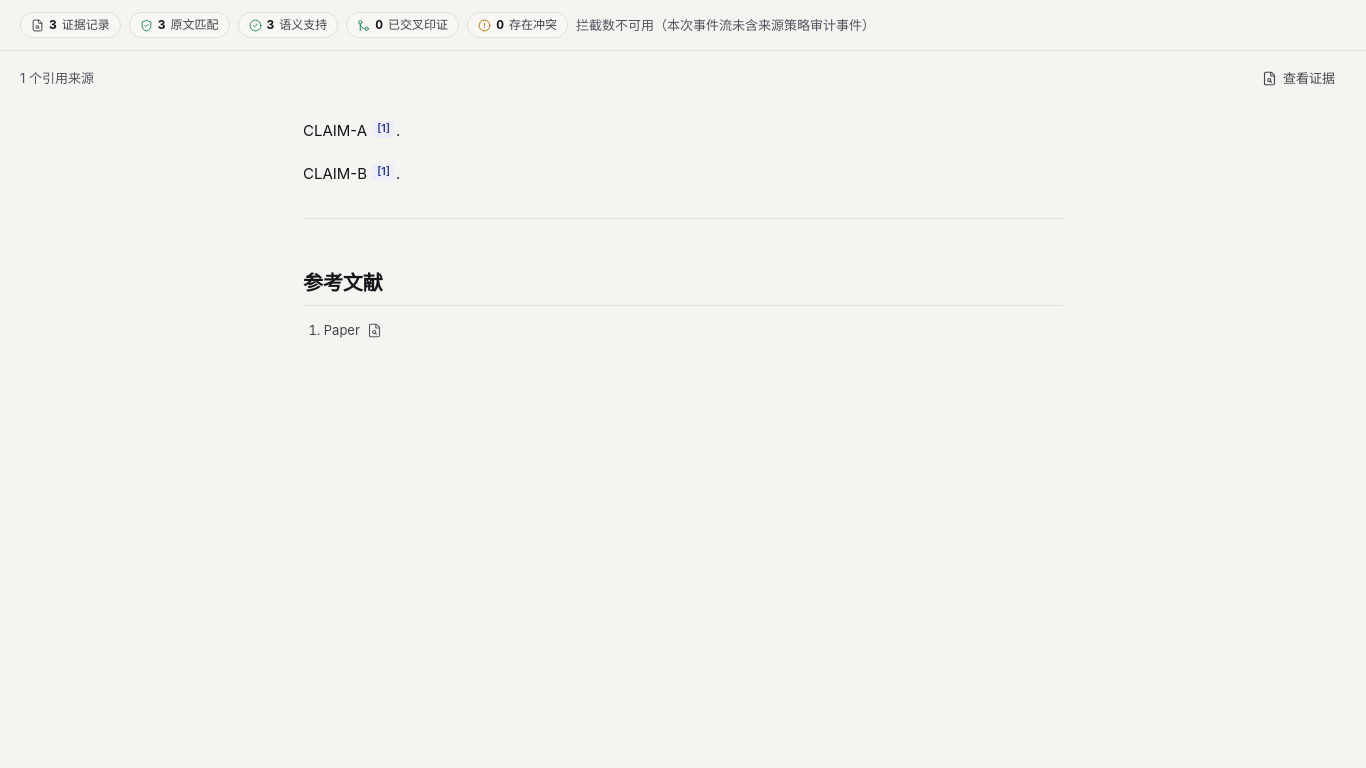
Test case: uses the selected evidence for each occurrence, allows explicit browsing and closes stale selection
Click the button named "查看引用 1 的证据": (384, 130) [372,121,395,138]
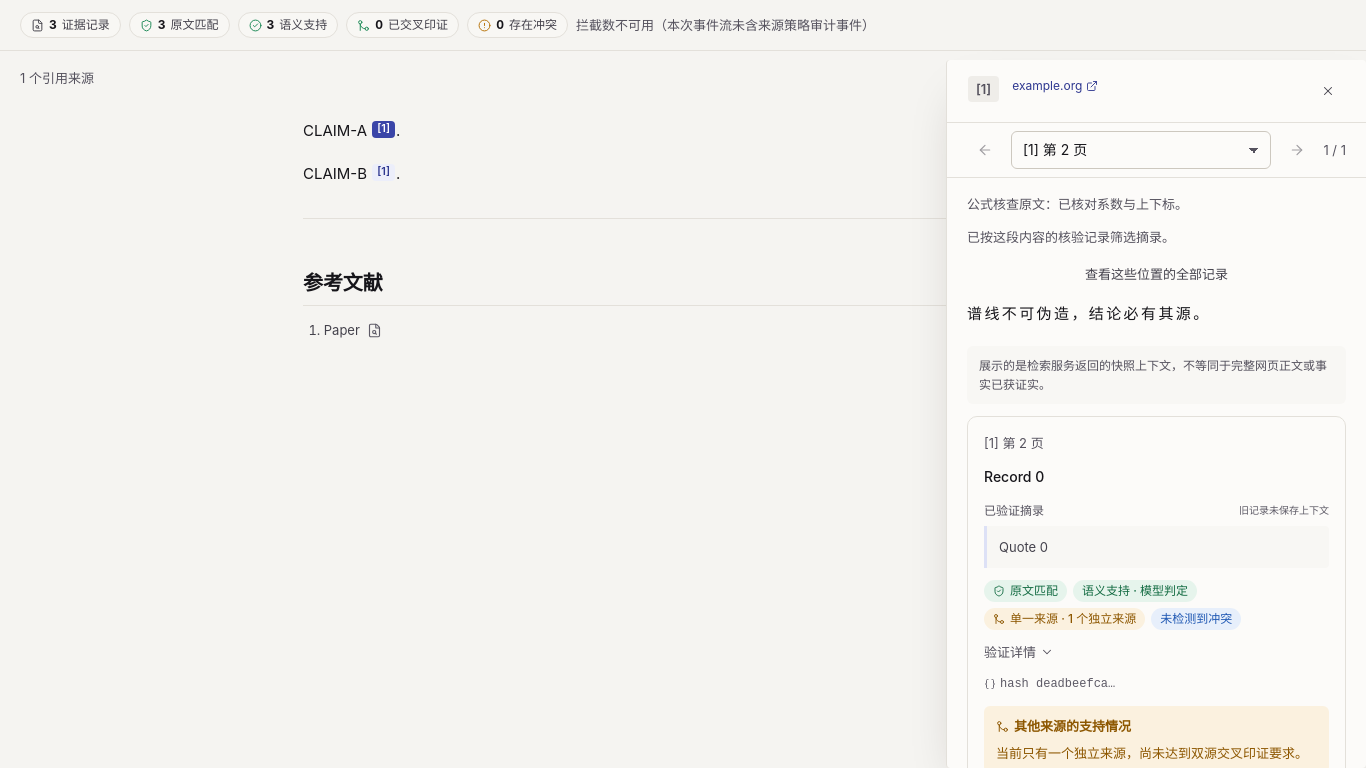
Check: the text "Record 1" is not shown
Check: the text "Record 0" is shown, box [984,468,1044,485]
Check: the text "公式核查原文：已核对系数与上下标。" is shown, box [967,196,1188,212]
Click the button "查看这些位置的全部记录": (1156, 275) [967,260,1346,290]
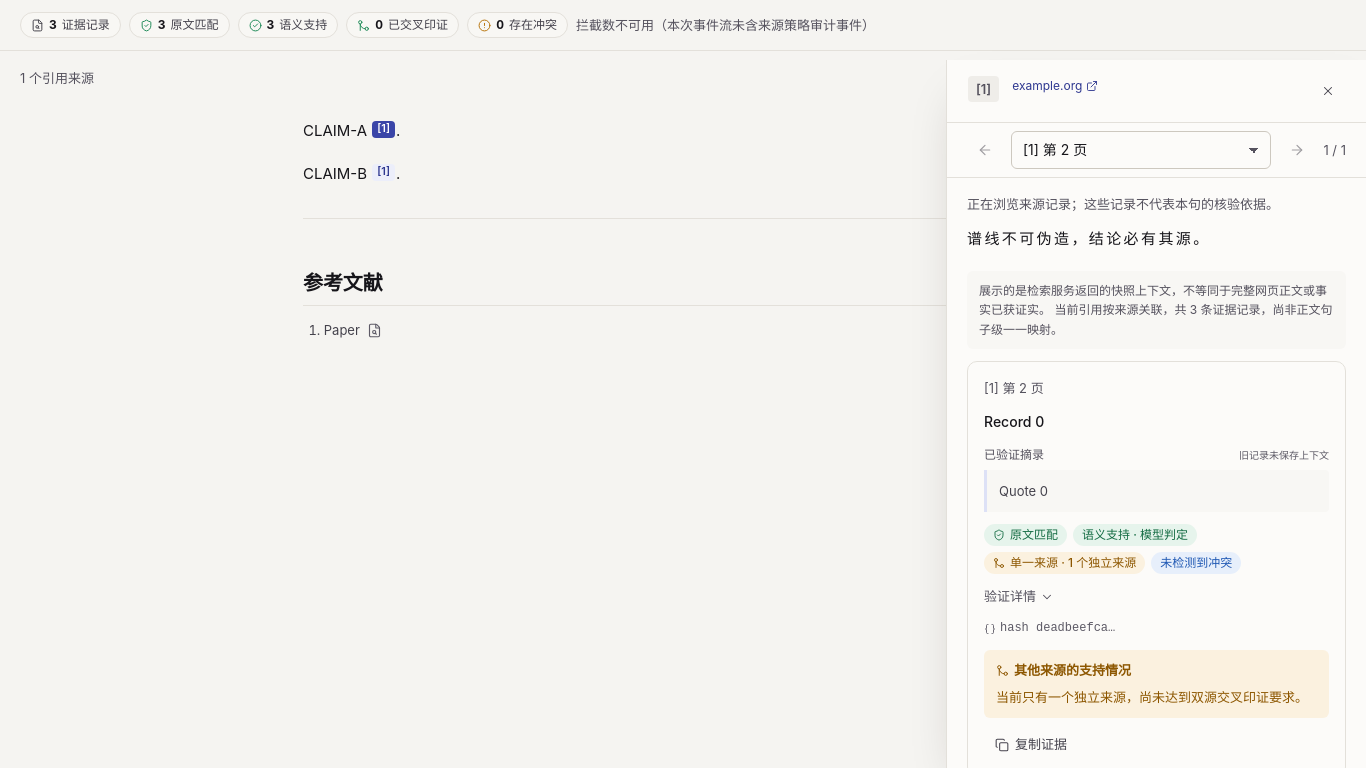
Click the button named "关闭证据侧栏": (1328, 91) [1310,76,1346,106]
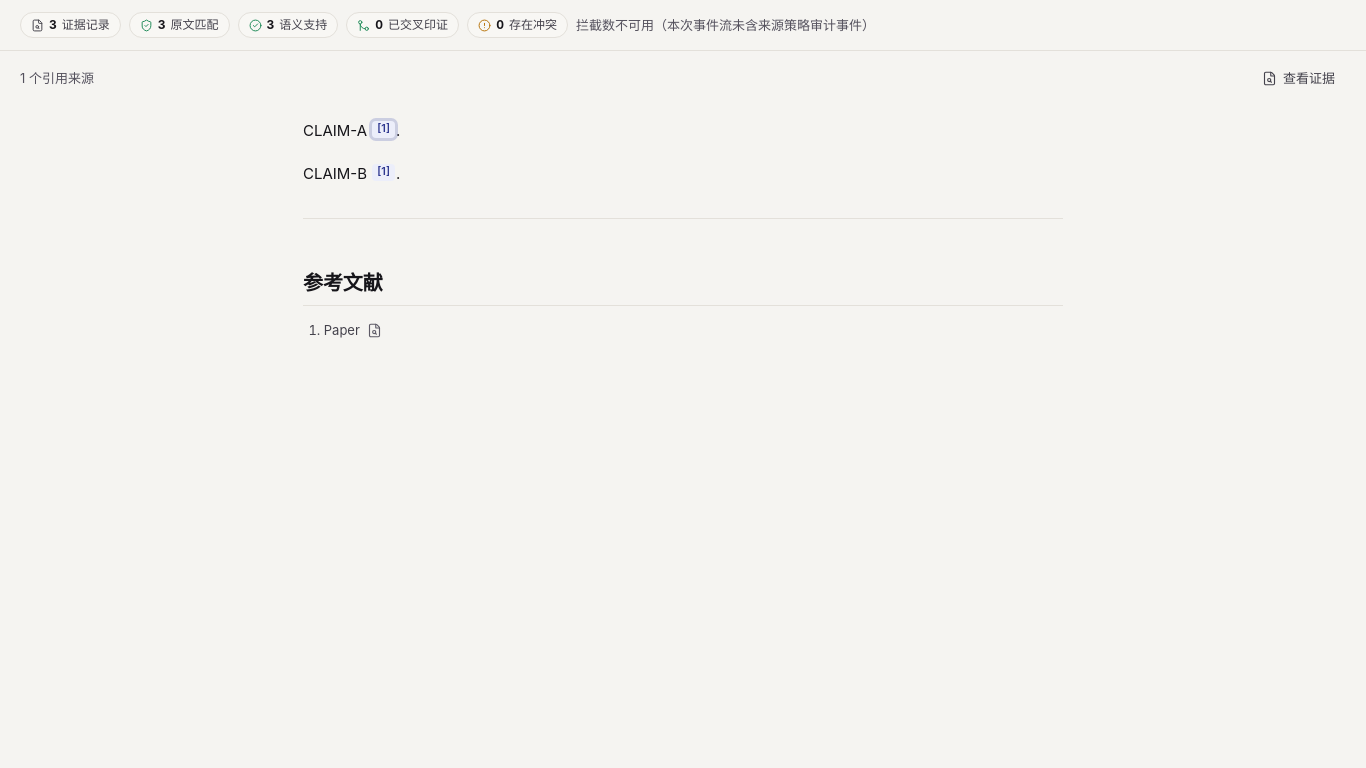
Click the button named "查看引用 1 的证据": (384, 172) [372,164,395,181]
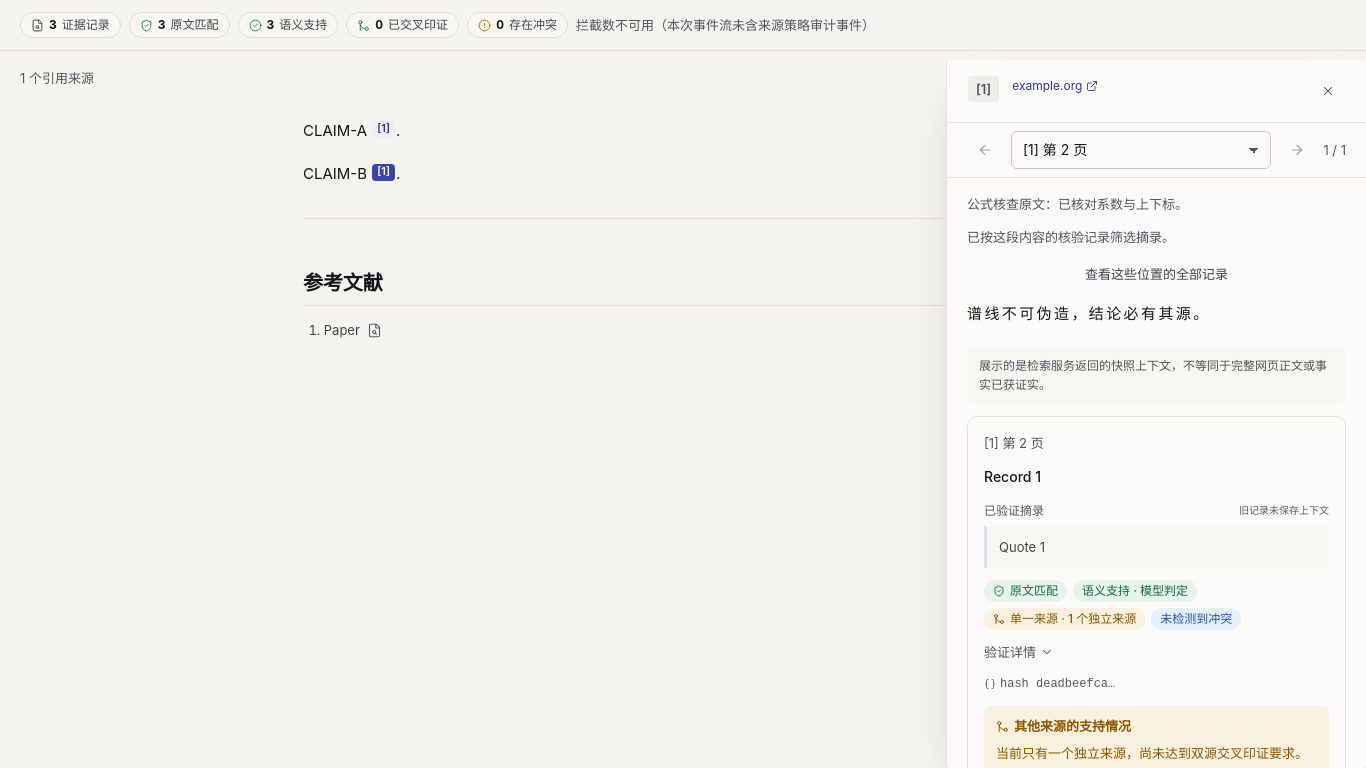
Check: the text "Record 0" is not shown
Check: the text "Record 1" is shown, box [984,468,1041,485]
